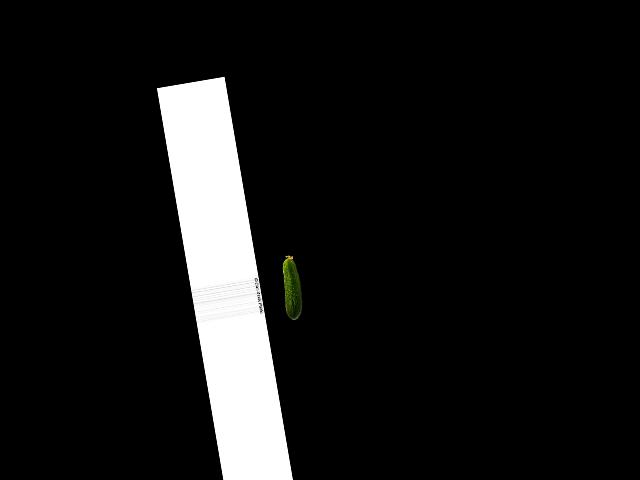cucumber: (277, 254, 306, 321)
